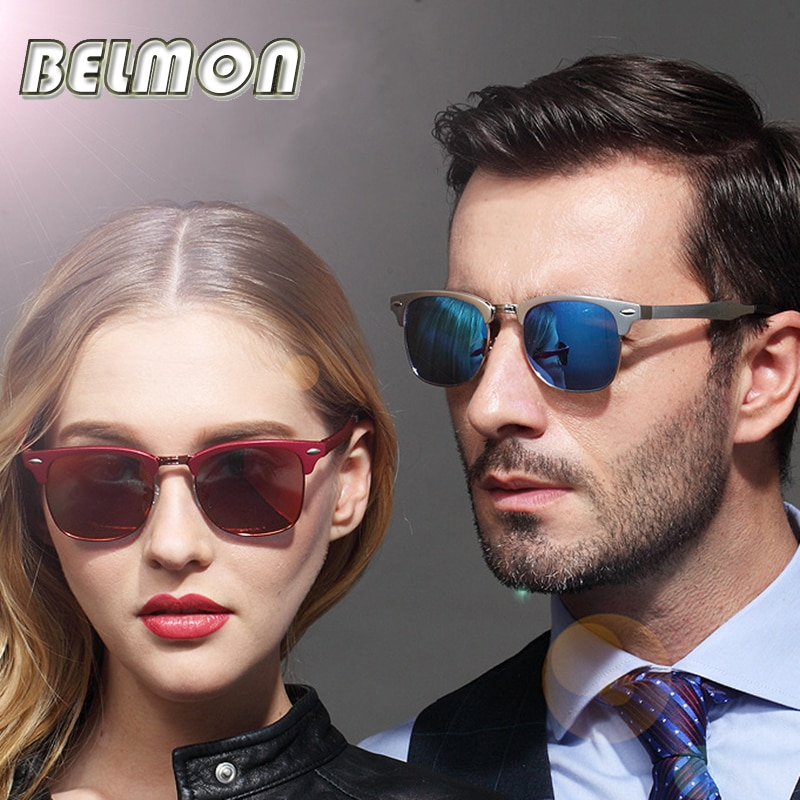sunglasses: (381, 291, 728, 390), (10, 438, 328, 543)
